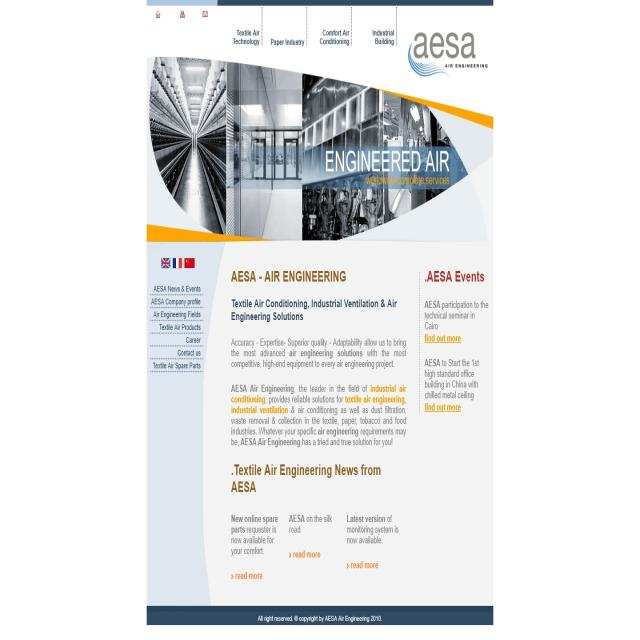button: (352, 6, 397, 50), (263, 7, 307, 50), (308, 7, 351, 48), (229, 6, 262, 50), (152, 359, 201, 373), (152, 307, 203, 320), (152, 346, 203, 359), (152, 321, 203, 333), (152, 282, 202, 294), (151, 334, 203, 345), (151, 297, 202, 305), (150, 4, 167, 26), (174, 7, 192, 24), (200, 6, 211, 25)
heading: (230, 460, 383, 493), (230, 298, 398, 323), (230, 268, 348, 284), (424, 268, 486, 286)
image: (146, 57, 494, 242), (405, 24, 494, 77)
link: (345, 558, 380, 574), (424, 401, 463, 415), (230, 570, 265, 584), (424, 333, 464, 345), (288, 548, 322, 562)
text: (230, 383, 408, 449), (230, 337, 406, 370), (322, 148, 450, 174), (424, 355, 481, 401), (423, 298, 489, 332), (345, 511, 401, 548), (231, 514, 278, 558), (256, 612, 383, 626), (288, 511, 334, 536), (365, 175, 451, 188)
